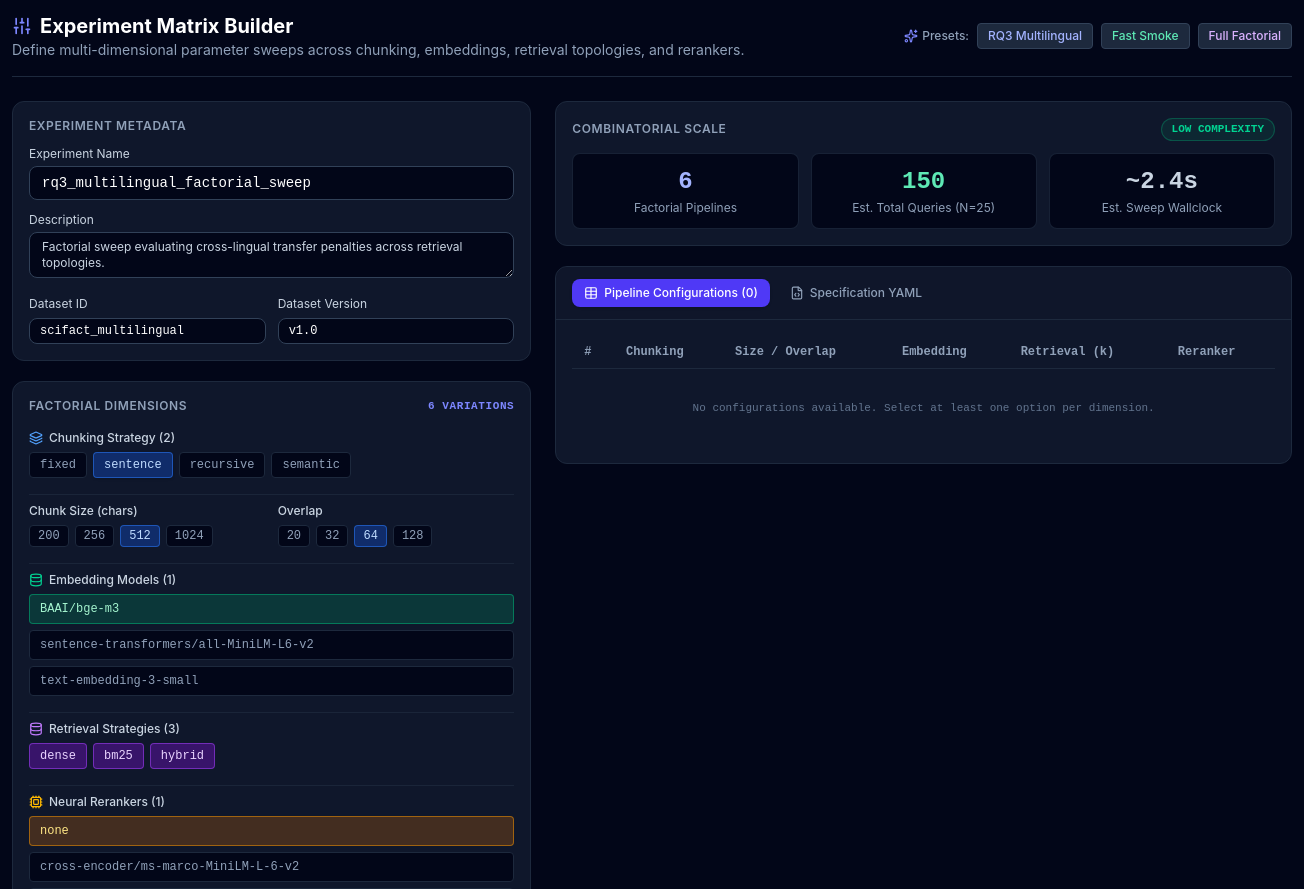
Scenario: MatrixBuilderView › loads RQ3 Multilingual preset with exact approved Phase G configuration (fixed 200/20, BGE-M3, k=5)
The image size is (1304, 889).
Click the button "RQ3 Multilingual" at (1035, 36), box [977,23,1093,49]
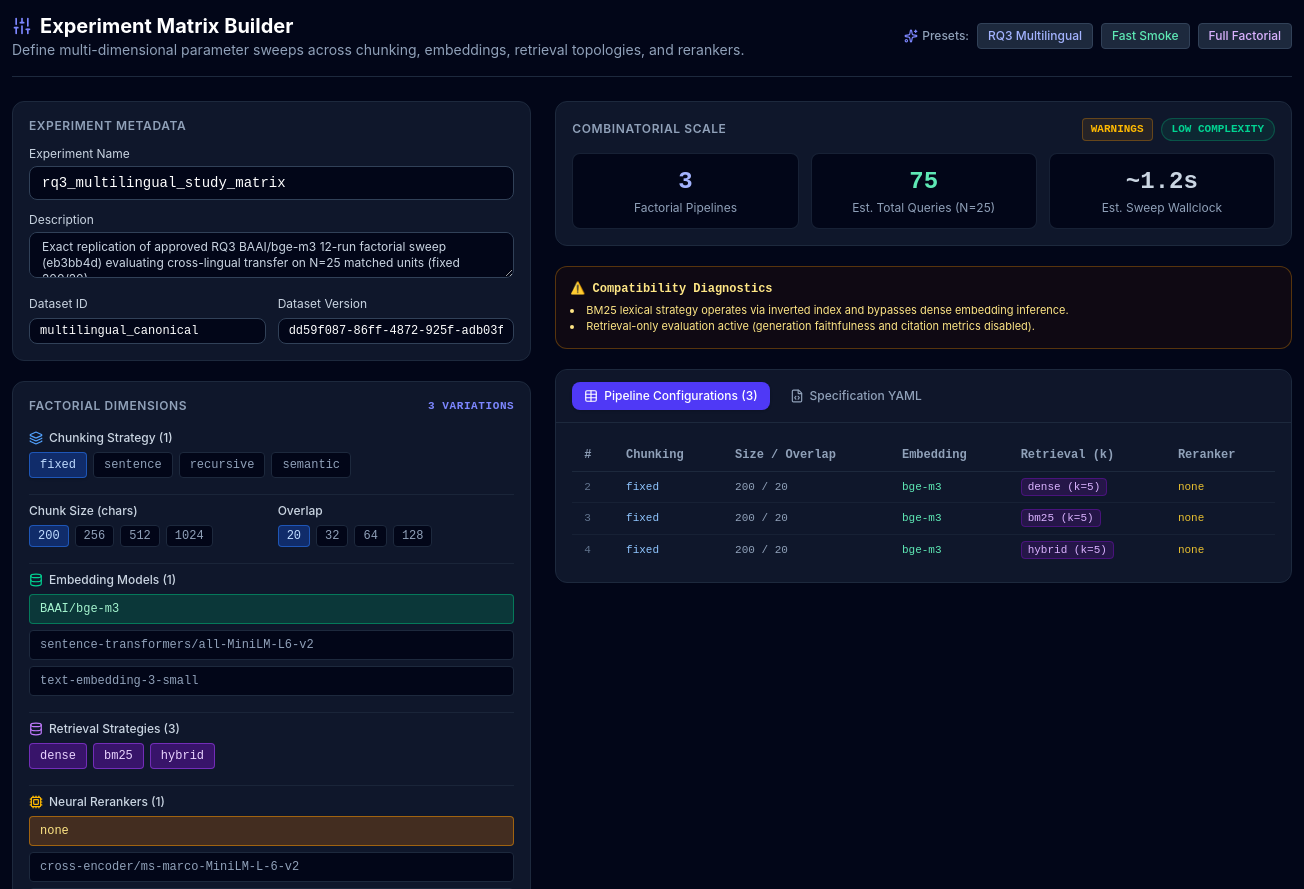
Check: the field showing "rq3_multilingual_study_matrix" below "Experiment Name" is shown, box [29,166,514,200]
Check: the field showing "multilingual_canonical" below "Dataset ID" is shown, box [29,318,266,344]
Check: the field showing "dd59f087-86ff-4872-925f-adb03fc8d9a2" below "Dataset Version" is shown, box [278,318,514,344]
